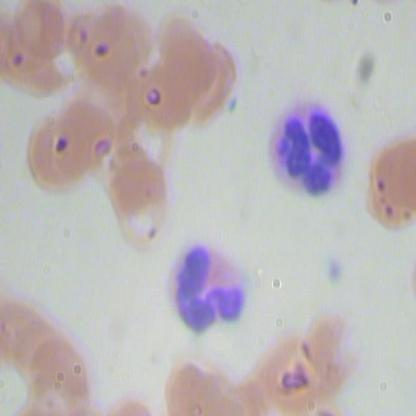Platelets: (322, 258, 347, 290)
RBC: (108, 156, 173, 249), (21, 110, 86, 203), (362, 130, 415, 236), (159, 15, 219, 93), (11, 1, 72, 59)
WBC: (164, 238, 252, 340), (263, 93, 350, 194)
